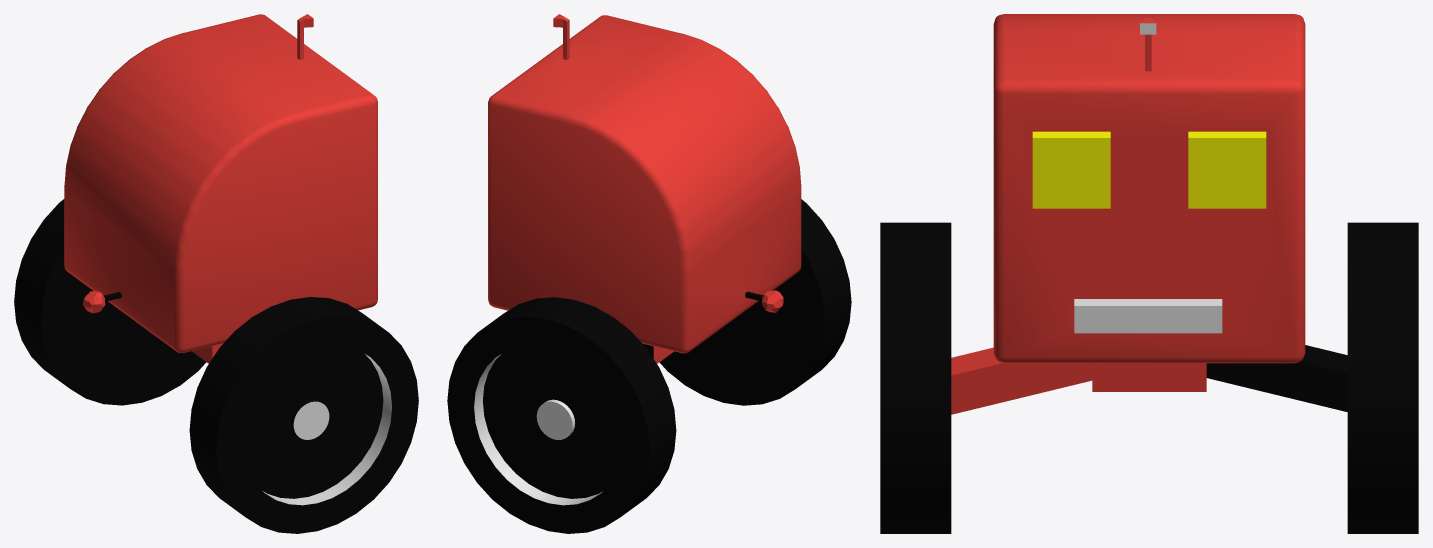
Rendered from MSD_PlayerRobot.fbx.
3 renders of one model, left to right at view 1: azimuth 30°, elevation 25°; view 2: azimuth 150°, elevation 25°; view 3: azimuth 270°, elevation 25°, orthographic. The views are drawn at different scales.
Visible parts, largest first — view 1: Player Head; view 2: Player Head; view 3: Player Head.
Part boxes in pixels (left/top/right/bottom): Player Head: left=14, top=14, right=418, bottom=533; Player Head: left=447, top=14, right=851, bottom=533; Player Head: left=880, top=14, right=1418, bottom=533.
Size of the model in its own units: 246 by 395 by 346.
